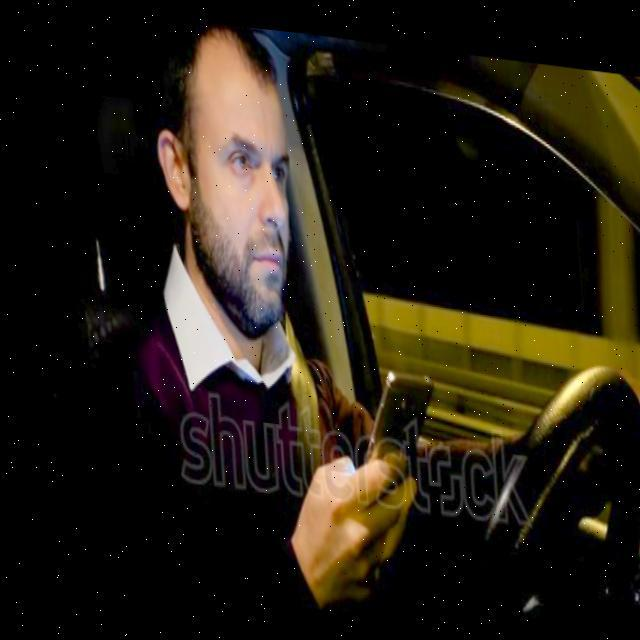PhoneCall: (351, 356, 436, 506)
